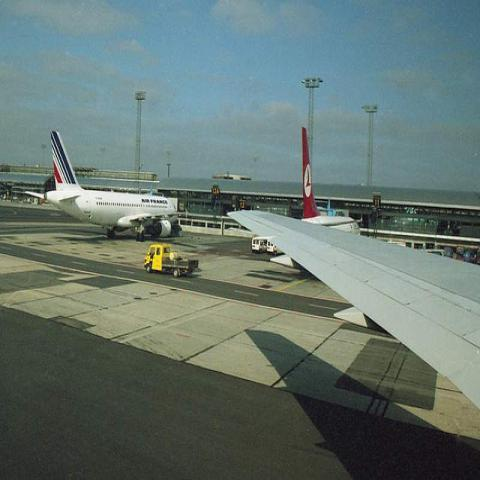truck: (144, 244, 198, 277)
